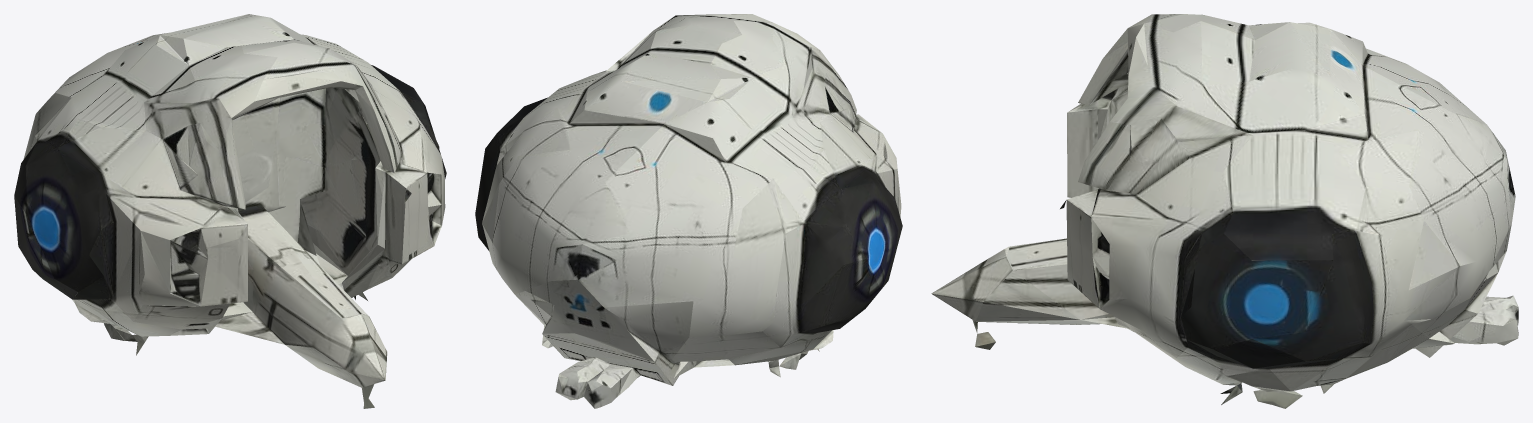
Rendered from module-hangar.glb.
The picture shows the model from 3 angles, left to right: view 1: azimuth 30°, elevation 25°; view 2: azimuth 150°, elevation 25°; view 3: azimuth 270°, elevation 25°; orthographic projection. The views are drawn at different scales.
Bounding box in the file's own units: 1.55 × 1.13 × 1.9.
1 material, 1 textured.
